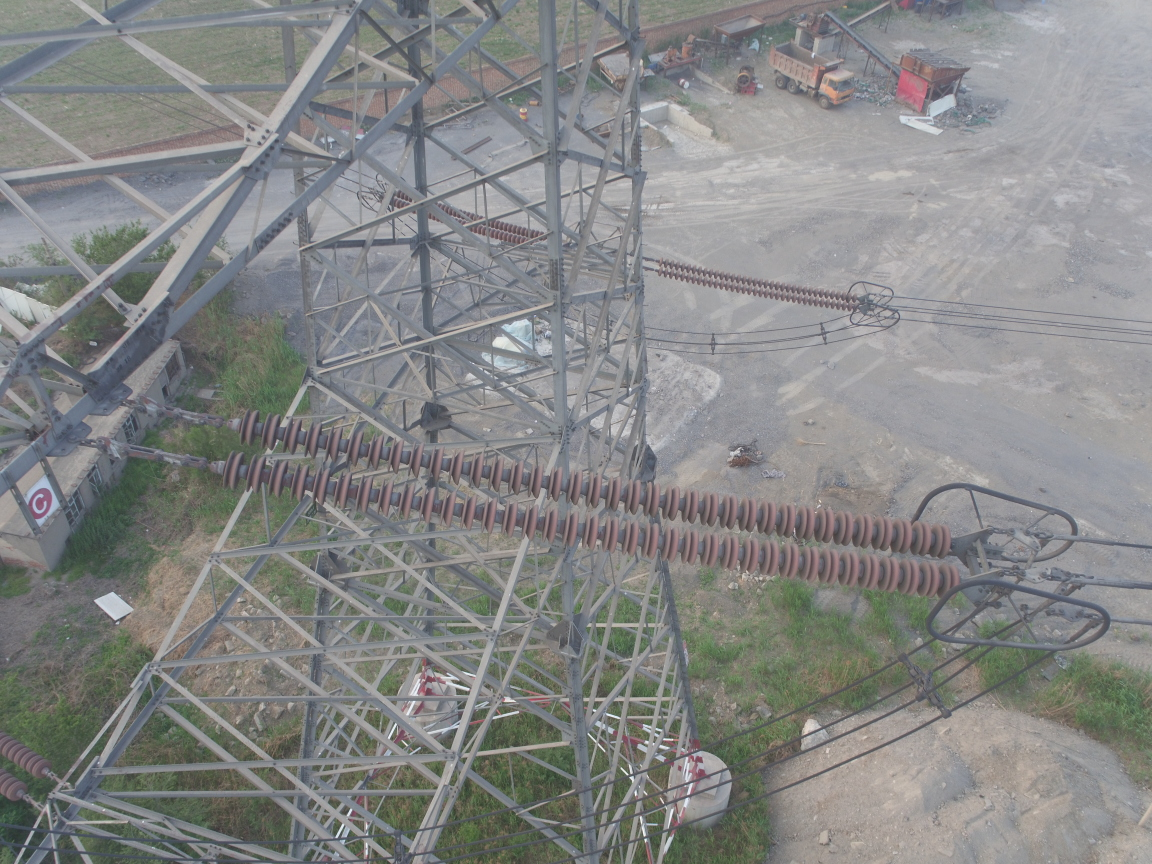insulator: (166, 404, 977, 606), (646, 254, 867, 315)
